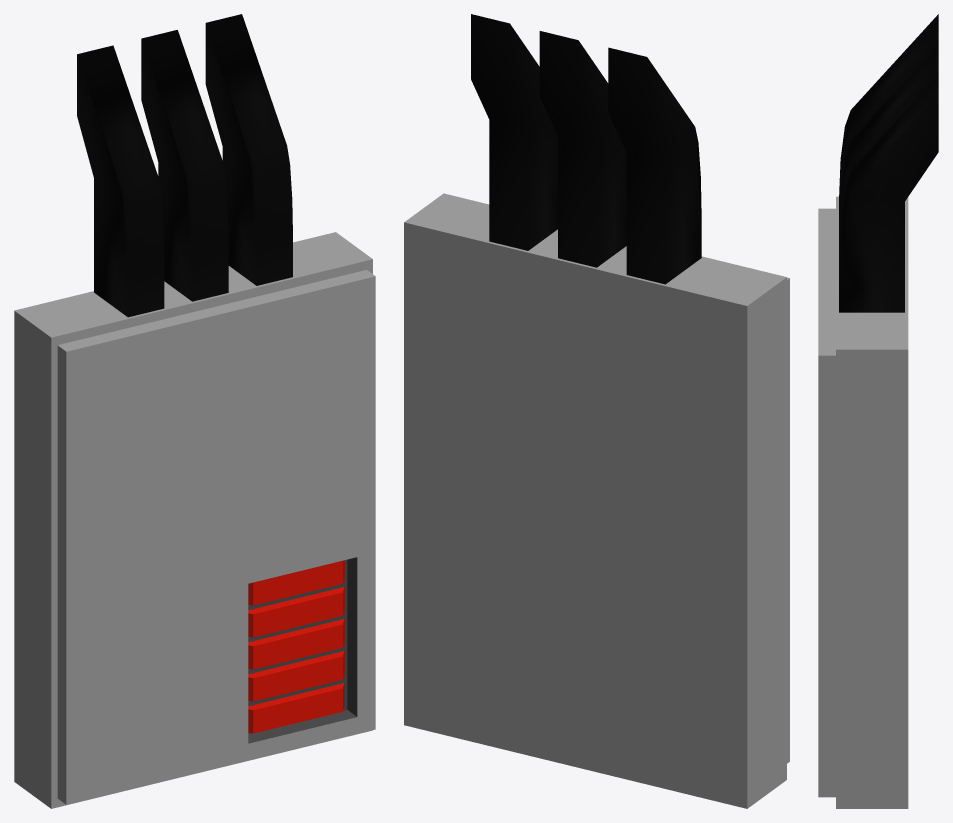
File: wall_decor_electrical.glb
The picture shows the model from 3 angles, left to right: view 1: azimuth 30°, elevation 25°; view 2: azimuth 150°, elevation 25°; view 3: azimuth 270°, elevation 25°; orthographic projection. The views are drawn at different scales.
Visible parts, largest first — view 1: Cube; view 2: Cube; view 3: Cube.
Part boxes in pixels (x1,y1,x2,y2): Cube: (14,14,375,808); Cube: (404,14,789,808); Cube: (818,14,938,808).
Bounding box in the file's own units: 0.5 × 1.04 × 0.1658.
